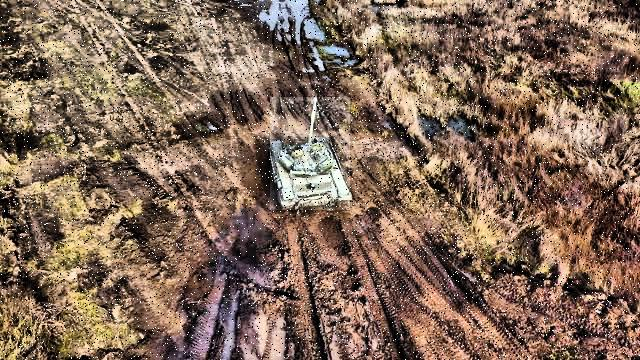military-vehicle: (271, 97, 351, 210)
